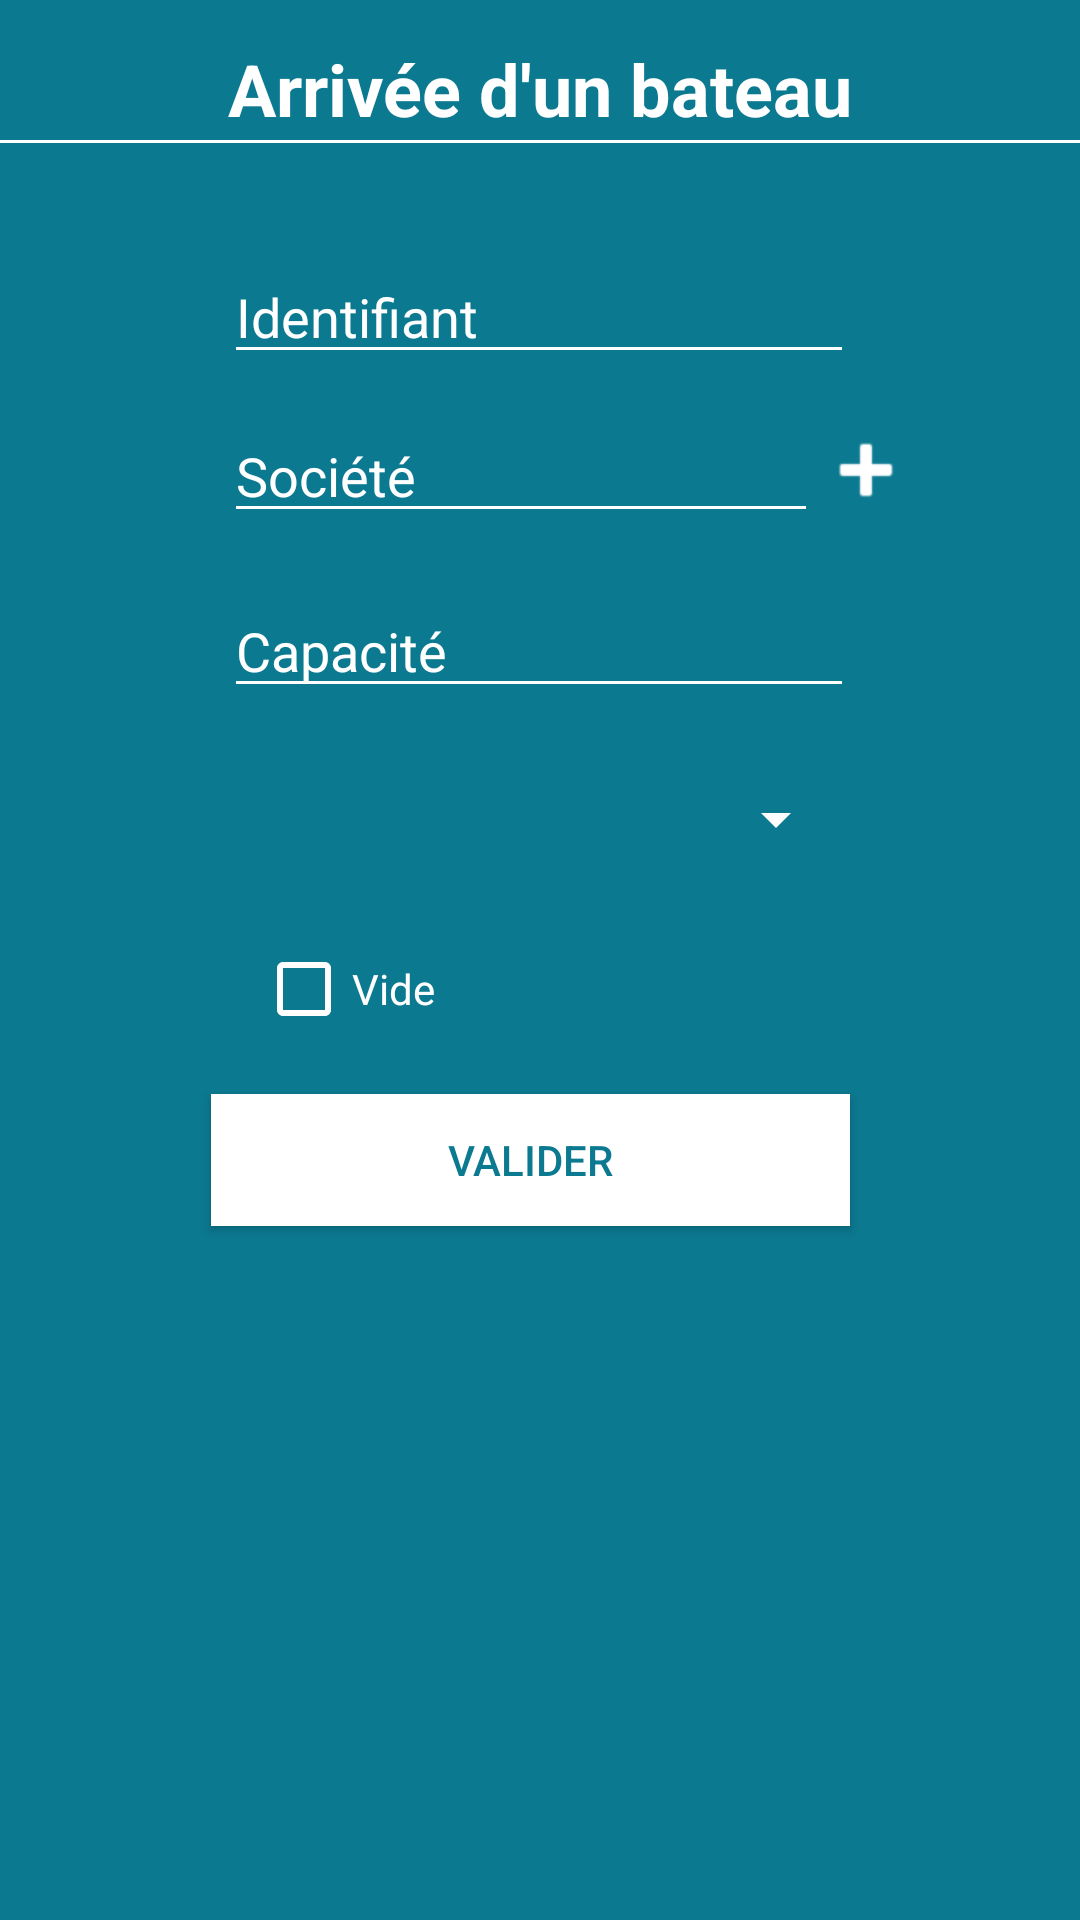

Icon bounding boxes for this 1080*1920 phone screenshot, format (x1, y1, x2, y2):
add: (839, 443, 893, 497)
